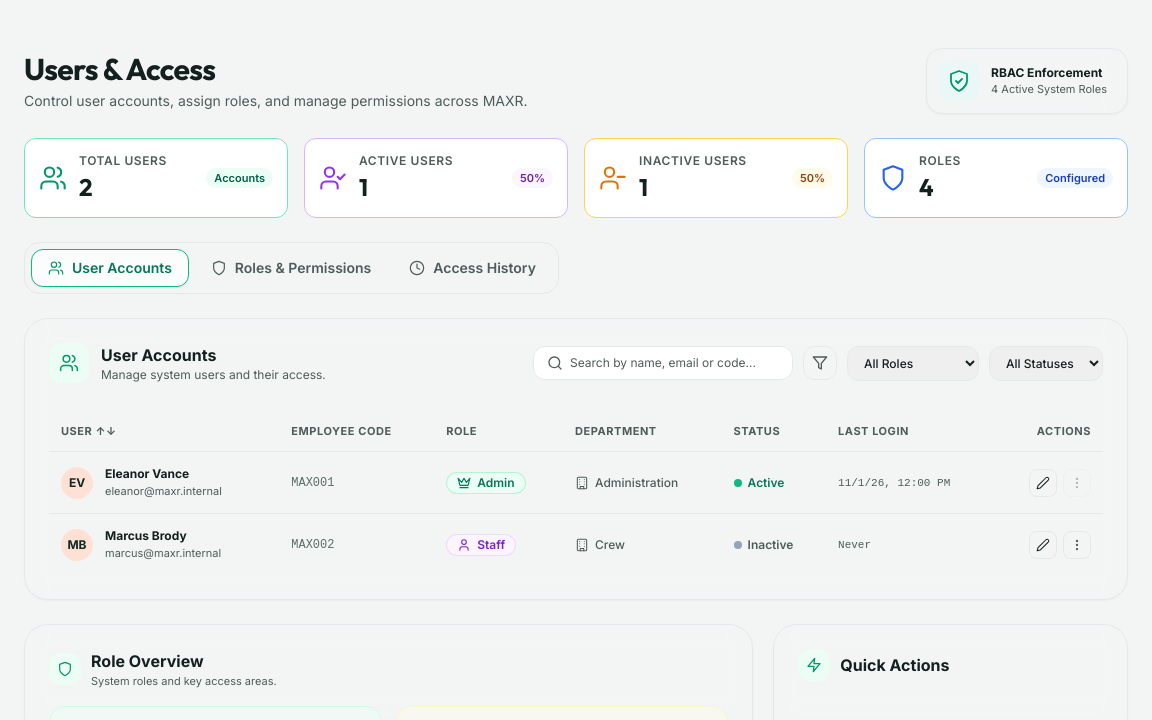
Test: UsersPage Component Suite (Issue #27) › opens RoleAssignmentModal when clicking Manage Roles
This screenshot has width=1152, height=720.
Click the button with test id "assign-roles-btn-table-u-1" at (1043, 482), box 1029,468 -> 1057,496
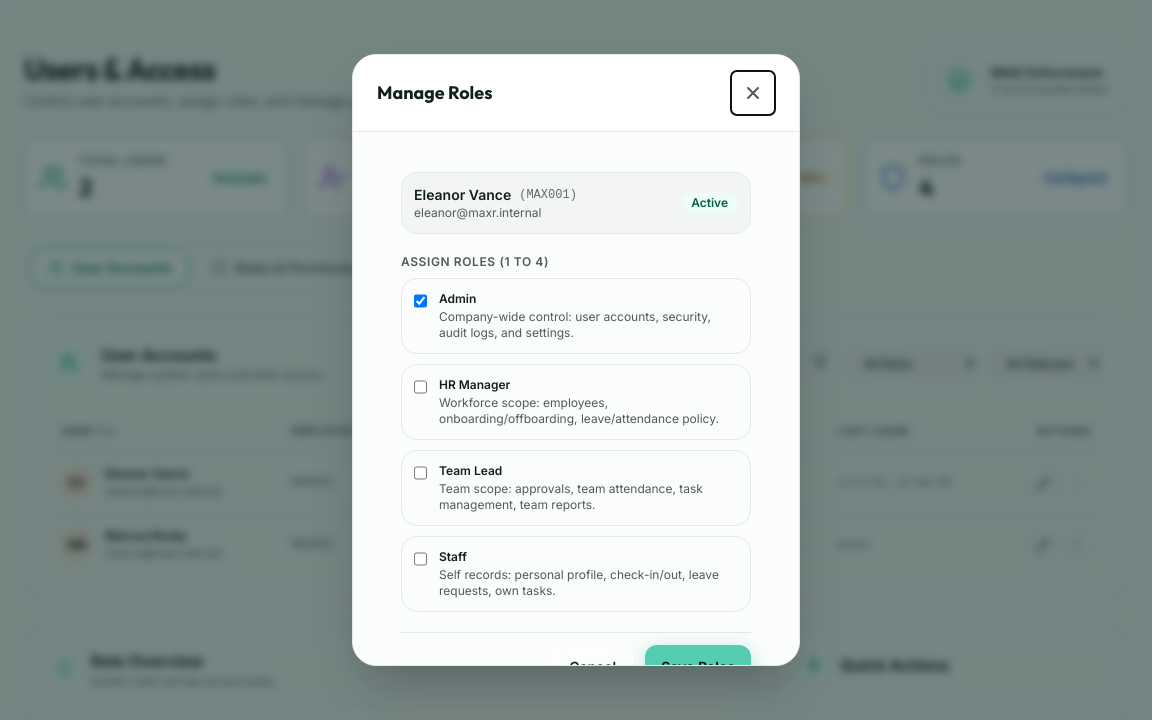
Expected: the element with test id "role-assignment-modal" is shown, 377,148 -> 775,665
